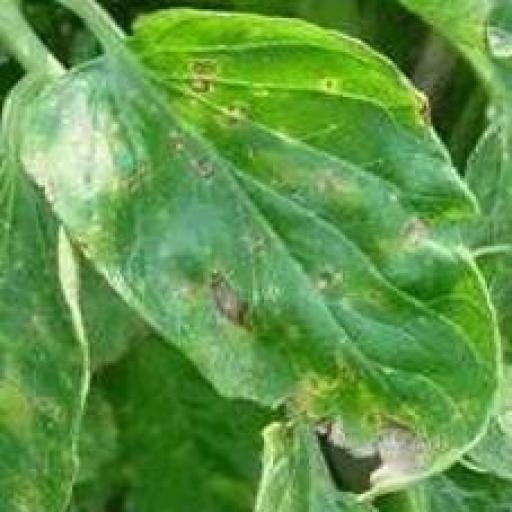Bacterial Spot: (13, 4, 504, 503)
